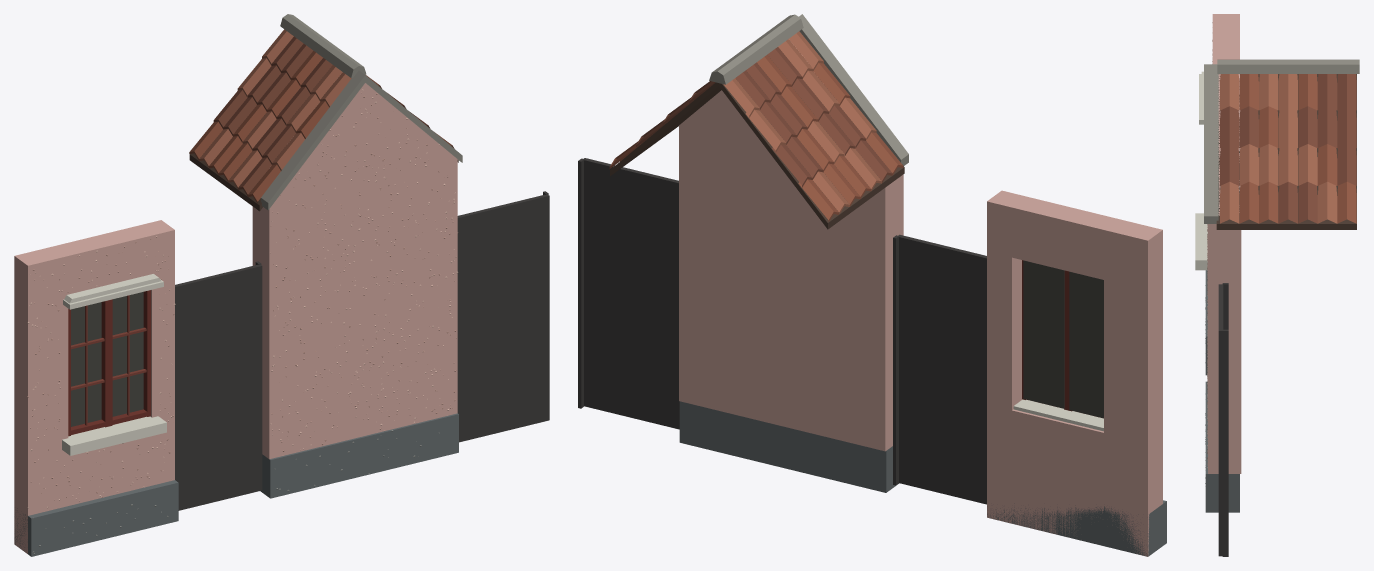
The model's file is jingan-jiaozhou-125-court-gable-lod.glb.
3 renders of one model, left to right at view 1: azimuth 30°, elevation 25°; view 2: azimuth 150°, elevation 25°; view 3: azimuth 270°, elevation 25°, orthographic. The views are drawn at different scales.
Visible parts, largest first — view 1: 胶州路125弄住宅院侧小山墙、红瓦和六格木窗; view 2: 胶州路125弄住宅院侧小山墙、红瓦和六格木窗; view 3: 胶州路125弄住宅院侧小山墙、红瓦和六格木窗.
Boxes of the visible parts, box(x1,y1,x2,y2) form: 胶州路125弄住宅院侧小山墙、红瓦和六格木窗: box(14, 14, 549, 556); 胶州路125弄住宅院侧小山墙、红瓦和六格木窗: box(578, 14, 1166, 556); 胶州路125弄住宅院侧小山墙、红瓦和六格木窗: box(1195, 14, 1359, 556).
Size of the model in its own units: 4.58 by 3.37 by 1.23.
